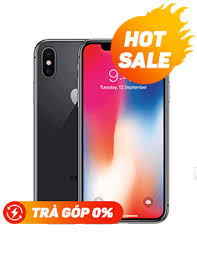iphone: (78, 36, 170, 224)
iphone10: (77, 37, 169, 225)
